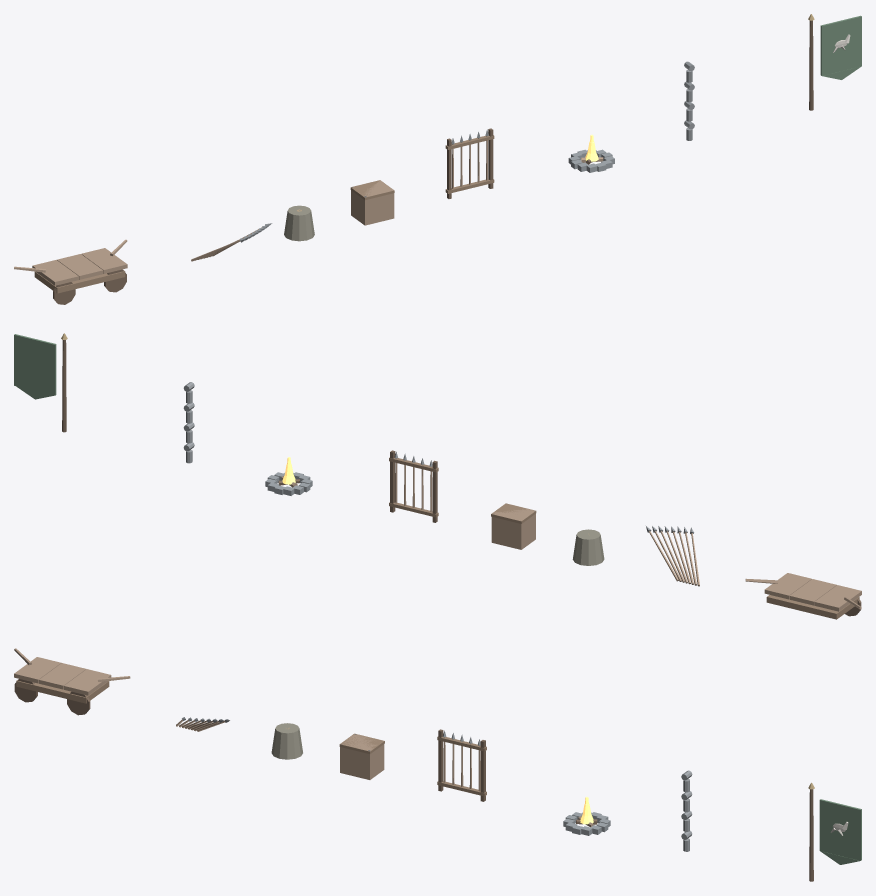
Rendered from atrezo.glb.
The picture shows the model from 3 angles, top to bottom: view 1: azimuth 30°, elevation 25°; view 2: azimuth 150°, elevation 25°; view 3: azimuth 330°, elevation 25°; orthographic projection. The views are drawn at different scales.
Visible parts, largest first — view 1: carro, estandarte_rohan_2_tela, caja, armero, hoguera_patio, saco, cadena; view 2: carro, estandarte_rohan_2_tela, caja, armero, pila_lanzas, hoguera_patio, saco, cadena; view 3: carro, estandarte_rohan_2_tela, caja, armero, hoguera_patio, saco, cadena, estandarte_rohan_2.
Part boxes in pixels (left/top/right/bottom): carro: left=14, top=239, right=127, bottom=304; estandarte_rohan_2_tela: left=820, top=15, right=861, bottom=79; caja: left=350, top=180, right=394, bottom=225; armero: left=445, top=128, right=494, bottom=198; hoguera_patio: left=568, top=134, right=614, bottom=172; saco: left=284, top=205, right=314, bottom=241; cadena: left=684, top=61, right=694, bottom=140; carro: left=745, top=573, right=861, bottom=619; estandarte_rohan_2_tela: left=14, top=334, right=56, bottom=399; caja: left=491, top=503, right=536, bottom=549; armero: left=389, top=450, right=438, bottom=522; pila_lanzas: left=646, top=526, right=699, bottom=586; hoguera_patio: left=265, top=457, right=312, bottom=495; saco: left=572, top=529, right=604, bottom=565; cadena: left=183, top=382, right=194, bottom=463; carro: left=14, top=648, right=130, bottom=715; estandarte_rohan_2_tela: left=819, top=799, right=861, bottom=864; caja: left=339, top=733, right=384, bottom=779; armero: left=437, top=729, right=486, bottom=801; hoguera_patio: left=563, top=796, right=610, bottom=835; saco: left=271, top=723, right=302, bottom=759; cadena: left=681, top=770, right=692, bottom=851; estandarte_rohan_2: left=808, top=782, right=814, bottom=881.
Bounding box in the file's own units: 34.35 × 3.85 × 2.51.
